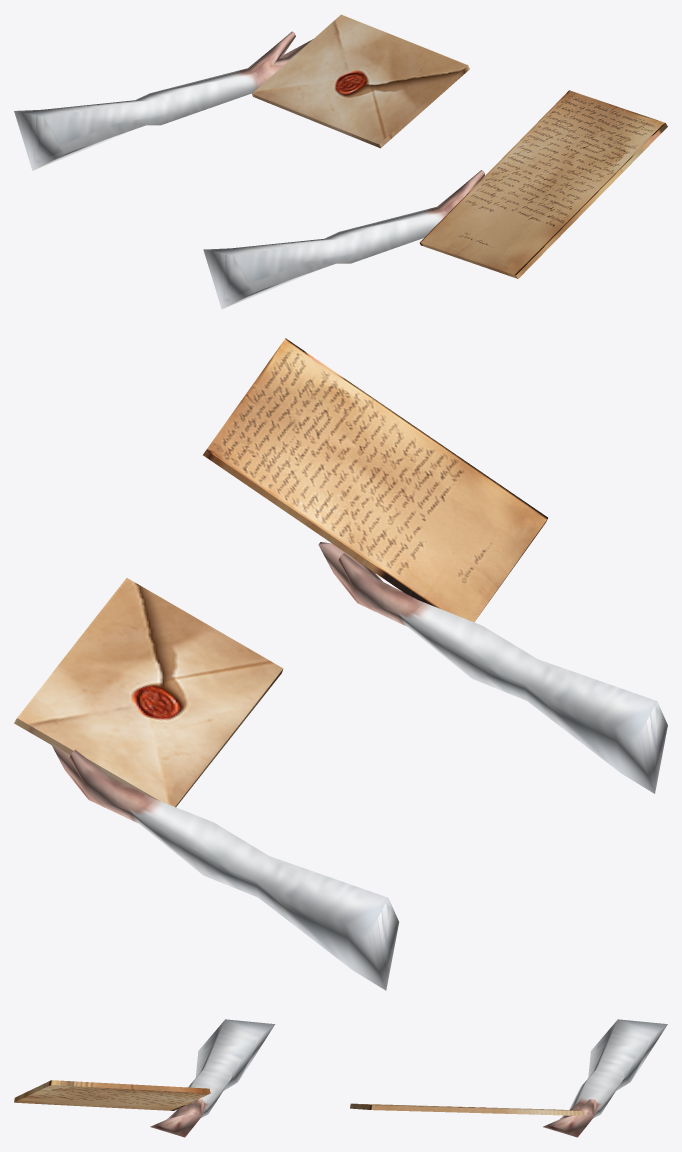
File: LetterArms.fbx
The picture shows the model from 3 angles, top to bottom: view 1: azimuth 30°, elevation 25°; view 2: azimuth 150°, elevation 25°; view 3: azimuth 270°, elevation 25°; orthographic projection. The views are drawn at different scales.
Visible parts, largest first — view 1: Plane.247, Plane.246, HumanoidBase_NotOverlapping.052, HumanoidBase_NotOverlapping.053; view 2: Plane.247, Plane.246, HumanoidBase_NotOverlapping.053, HumanoidBase_NotOverlapping.052; view 3: HumanoidBase_NotOverlapping.052, HumanoidBase_NotOverlapping.053, Plane.247, Plane.246.
Part boxes in pixels (x1=…): Plane.247: x1=419, y1=90, x2=667, y2=278; Plane.246: x1=252, y1=14, x2=469, y2=148; HumanoidBase_NotOverlapping.052: x1=14, y1=31, x2=312, y2=170; HumanoidBase_NotOverlapping.053: x1=203, y1=170, x2=484, y2=309; Plane.247: x1=203, y1=338, x2=547, y2=622; Plane.246: x1=14, y1=578, x2=283, y2=807; HumanoidBase_NotOverlapping.053: x1=318, y1=542, x2=667, y2=793; HumanoidBase_NotOverlapping.052: x1=50, y1=742, x2=399, y2=990; HumanoidBase_NotOverlapping.052: x1=543, y1=1019, x2=667, y2=1137; HumanoidBase_NotOverlapping.053: x1=150, y1=1019, x2=275, y2=1137; Plane.247: x1=14, y1=1080, x2=210, y2=1110; Plane.246: x1=350, y1=1103, x2=584, y2=1115.
Size of the model in its own units: 95.24 by 42.88 by 146.
